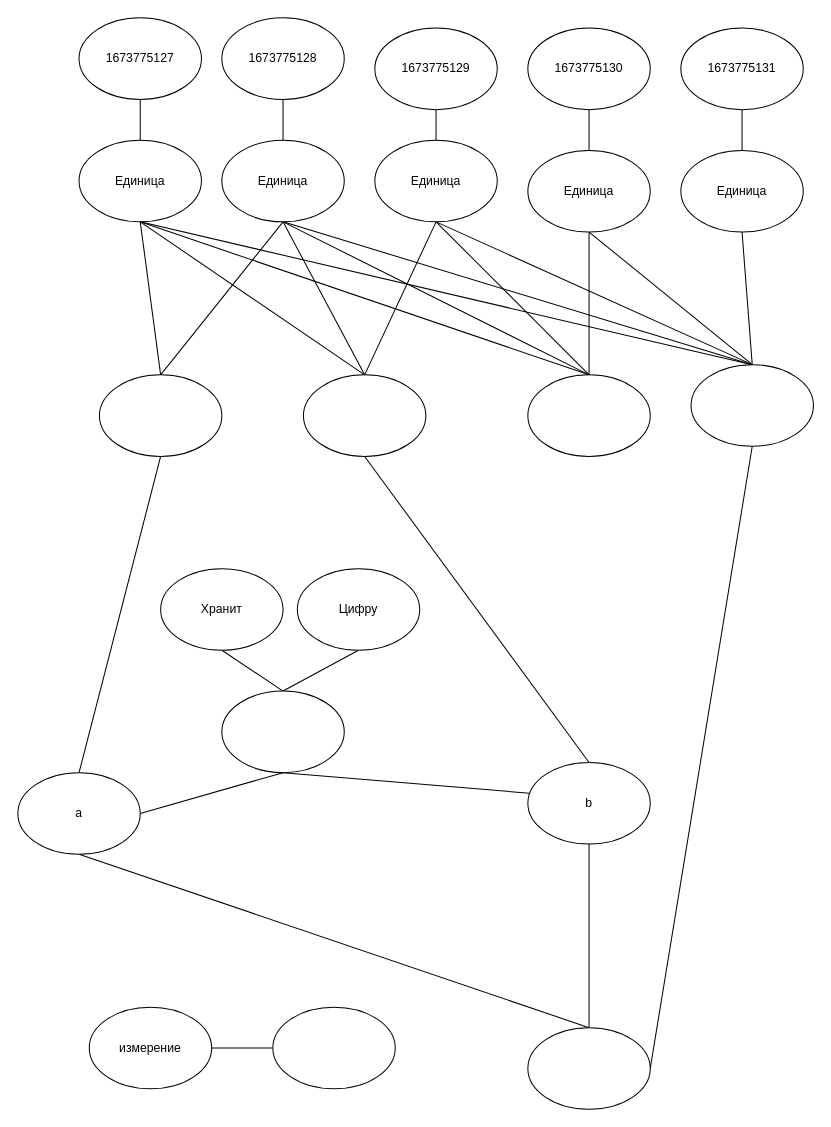
Some shapes in this 831 by 1127 pixel diagram are drawn without their labels. The centre of each missing label's shape, as x and y in pixels:
Два: pixel 160 415
Переменная: pixel 282 731
Пять: pixel 751 405
сложение: pixel 588 1068
сравнение: pixel 333 1047
Три: pixel 364 415
Четыре: pixel 588 415
